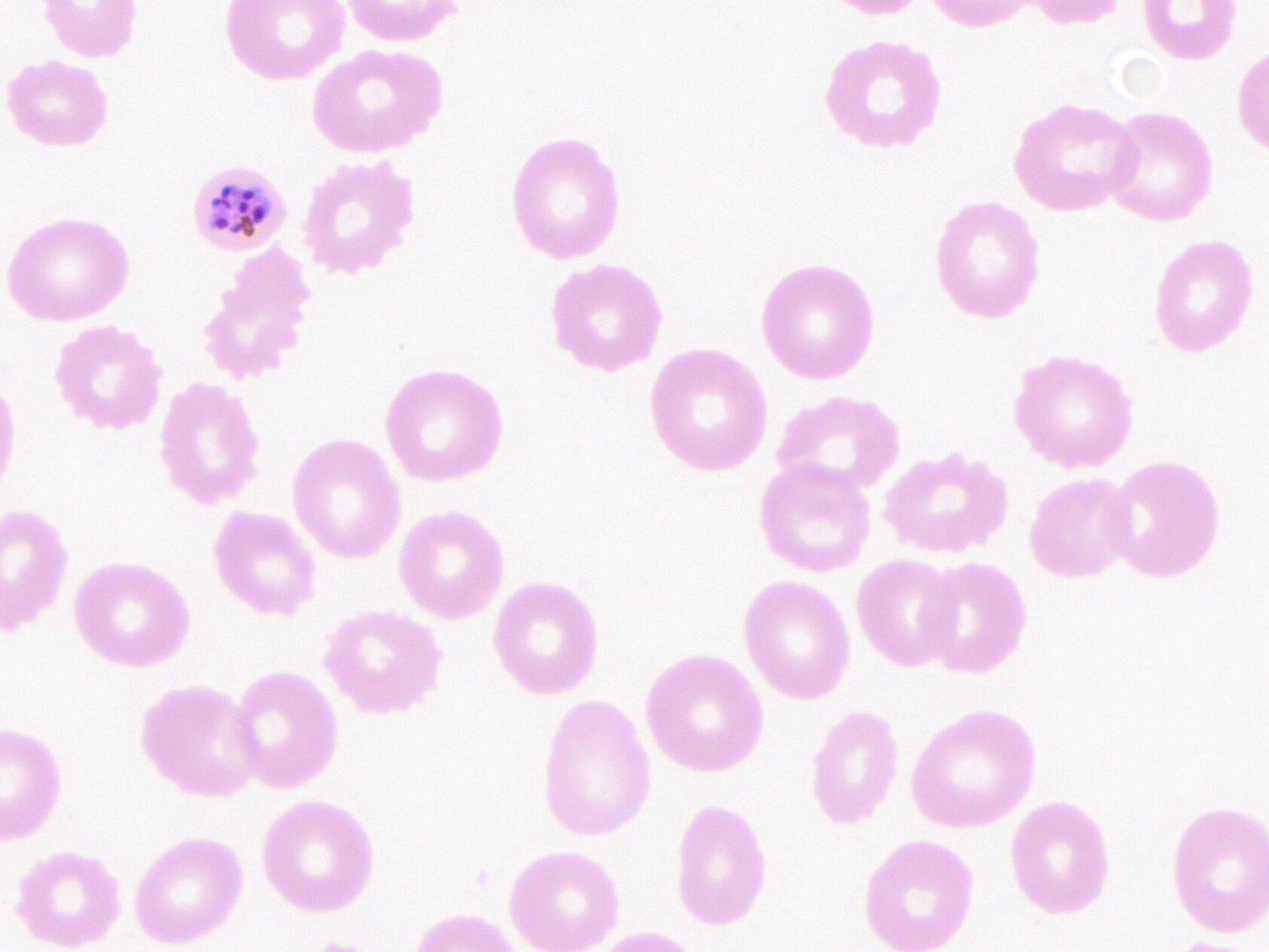Infected: (189, 161, 286, 254)
Uninfected: (652, 349, 767, 475), (383, 364, 502, 485), (291, 437, 402, 560), (648, 653, 764, 770), (313, 49, 446, 151), (939, 197, 1046, 322), (1016, 100, 1134, 213), (542, 701, 646, 829), (256, 800, 372, 914), (916, 710, 1028, 827), (775, 391, 908, 489), (128, 840, 244, 952), (881, 454, 1008, 555), (324, 611, 445, 717), (745, 582, 847, 707), (214, 247, 304, 385), (7, 214, 125, 319), (760, 267, 871, 378), (145, 683, 254, 796), (511, 139, 612, 260), (1022, 354, 1135, 461), (1110, 457, 1215, 572), (154, 384, 254, 504), (822, 43, 934, 150), (1108, 111, 1212, 225), (304, 164, 408, 276), (1176, 809, 1269, 933), (493, 576, 592, 692), (73, 567, 185, 667), (553, 263, 658, 369), (1159, 234, 1248, 359), (216, 503, 311, 620), (864, 838, 961, 952), (919, 567, 1022, 674), (53, 331, 169, 426), (401, 507, 498, 620), (758, 468, 872, 564), (516, 851, 624, 952), (674, 802, 761, 927), (240, 675, 330, 792), (1011, 800, 1102, 915), (855, 551, 950, 661), (15, 857, 122, 952), (1029, 476, 1122, 580), (218, 0, 335, 82), (4, 58, 104, 150), (813, 708, 890, 826)
